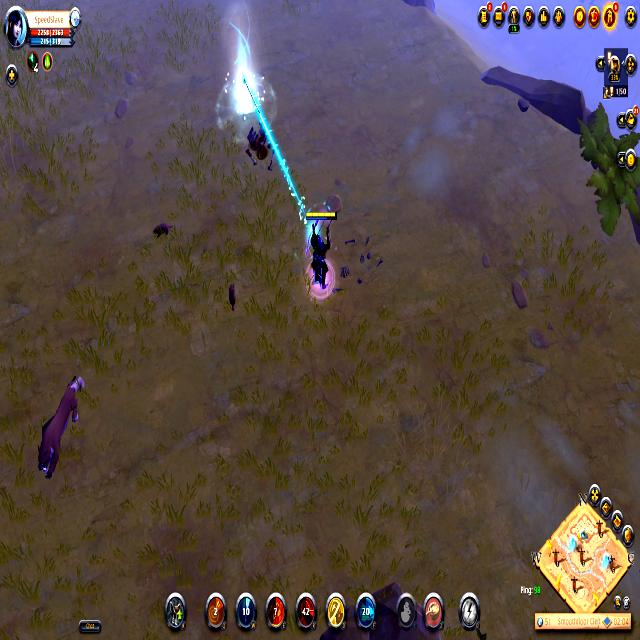ore: (29, 362, 92, 497)
red: (300, 204, 340, 303)
